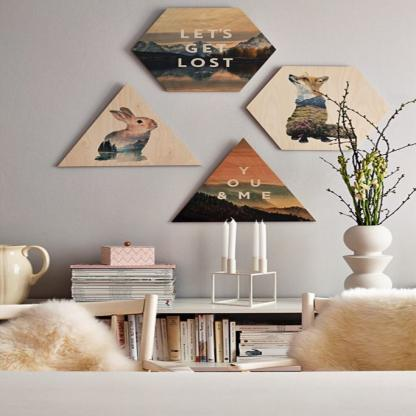book: (91, 315, 315, 362), (66, 265, 176, 308), (162, 314, 178, 358)
